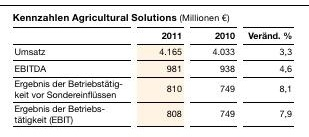table: (0, 0, 309, 137)
